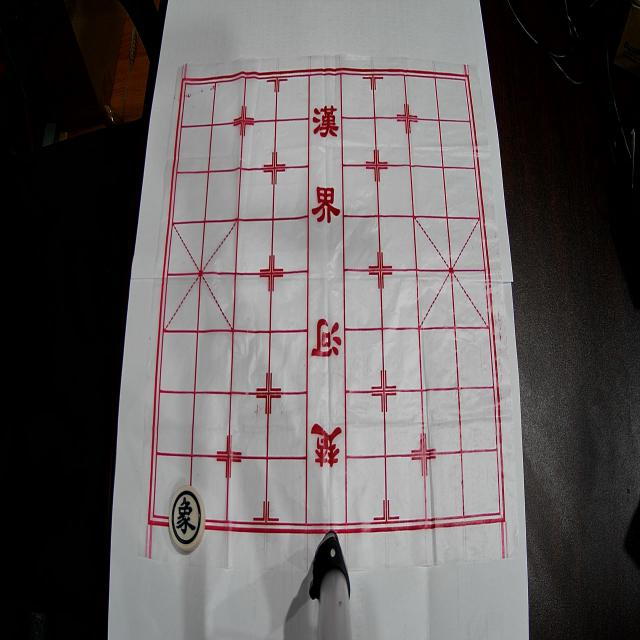black-elephant: (168, 486, 206, 552)
